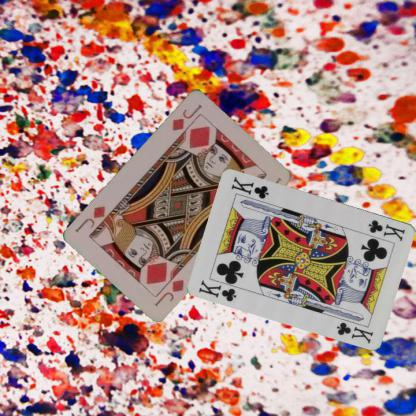Jd: (151, 276, 186, 309), (170, 100, 204, 132)
Kc: (196, 277, 238, 303), (366, 216, 407, 242)
